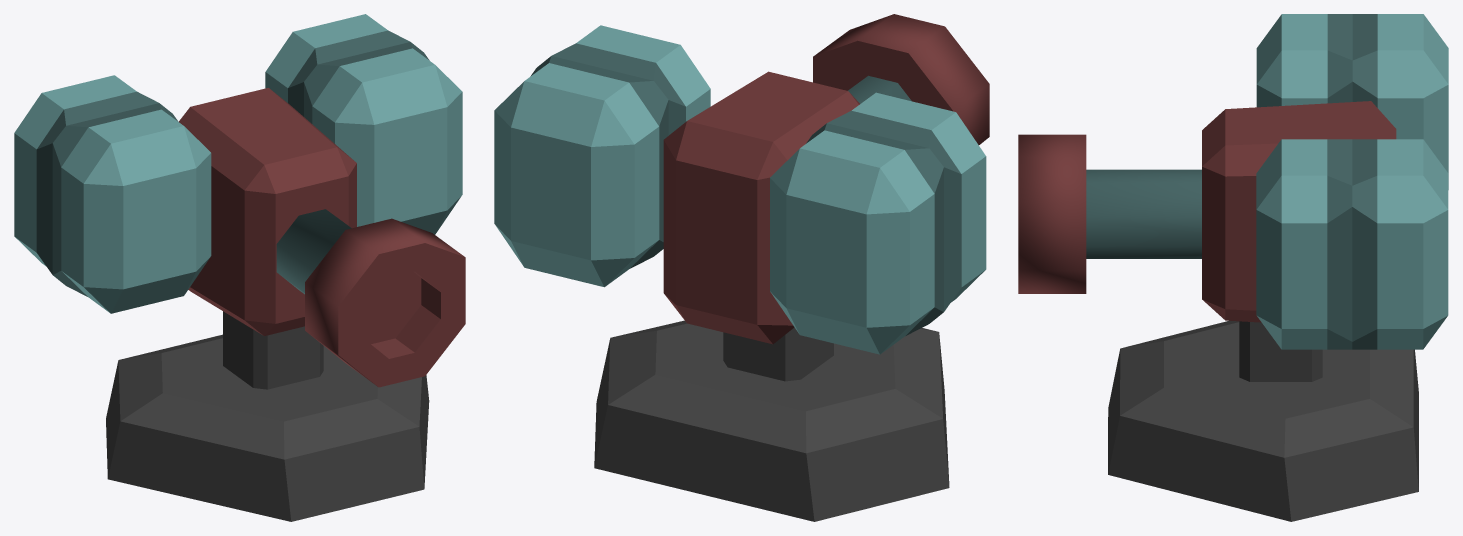
The model's file is flame.fbx.
3 renders of one model, left to right at view 1: azimuth 30°, elevation 25°; view 2: azimuth 150°, elevation 25°; view 3: azimuth 270°, elevation 25°, orthographic. The views are drawn at different scales.
Visible parts, largest first — view 1: turret, base; view 2: turret, base; view 3: turret, base.
Boxes of the visible parts, box(x1,y1,x2,y2) form: turret: box(14, 14, 465, 387); base: box(106, 311, 429, 521); turret: box(494, 14, 989, 354); base: box(594, 320, 949, 521); turret: box(1018, 14, 1448, 349); base: box(1108, 320, 1418, 521).
Bounding box in the file's own units: 7600 × 6508 × 7317.
